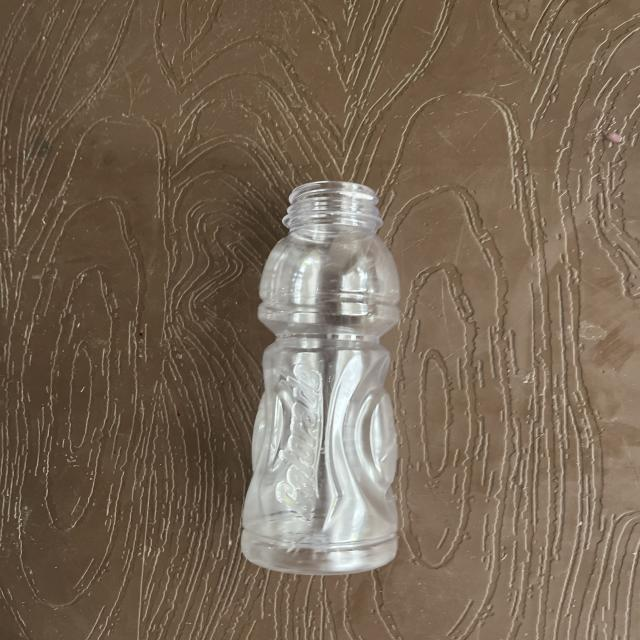PET_ClearBottle: (226, 166, 580, 571)
